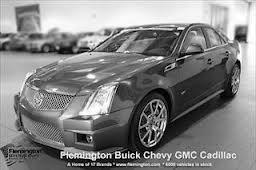car: (13, 23, 244, 160)
